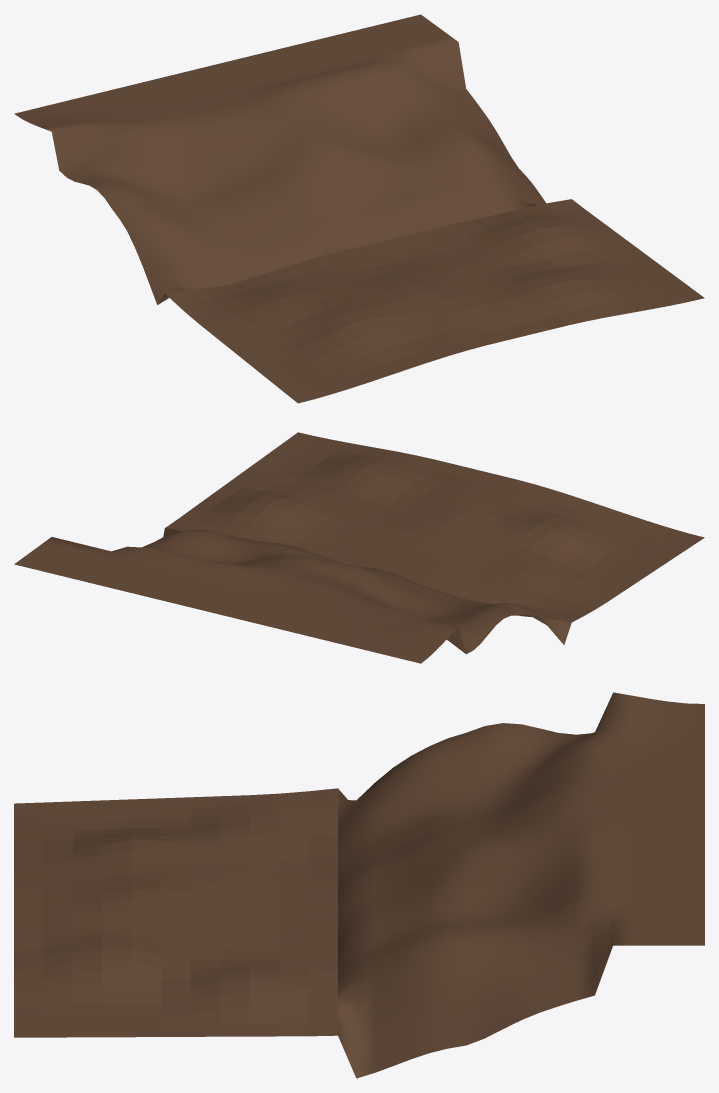
File: prop_dungeonEntrance_mud.FBX
3 renders of one model, top to bottom at view 1: azimuth 30°, elevation 25°; view 2: azimuth 150°, elevation 25°; view 3: azimuth 270°, elevation 25°, orthographic. The views are drawn at different scales.
Visible parts, largest first — view 1: prop_dungeonEntrance_mud; view 2: prop_dungeonEntrance_mud; view 3: prop_dungeonEntrance_mud.
Boxes of the visible parts, bbox=[...] form: prop_dungeonEntrance_mud: bbox=[14, 14, 704, 403]; prop_dungeonEntrance_mud: bbox=[14, 432, 704, 663]; prop_dungeonEntrance_mud: bbox=[14, 692, 704, 1078].
Size of the model in its own units: 8.95 by 2.5 by 10.82.
